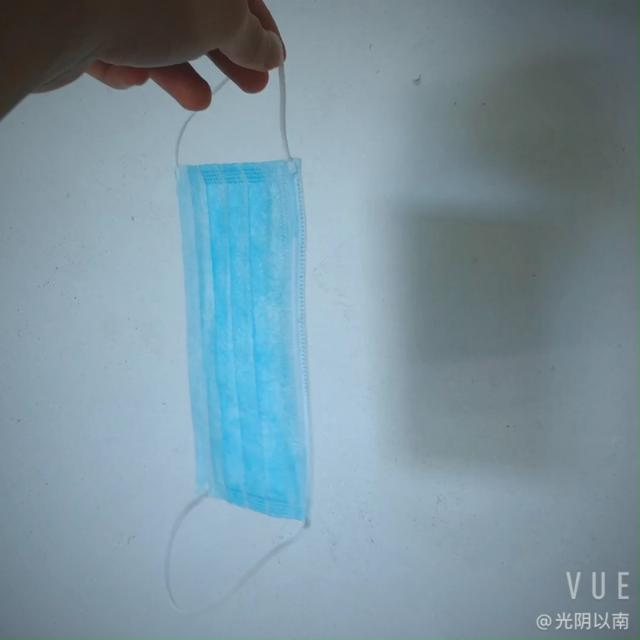face mask: (160, 146, 326, 526)
